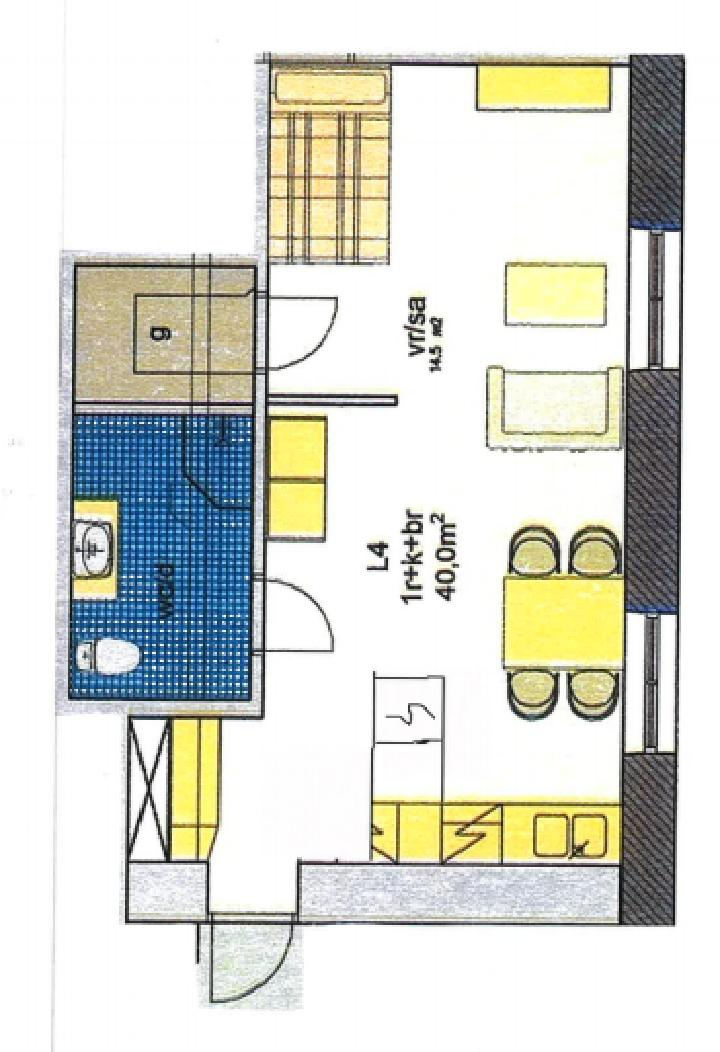door: (208, 918, 293, 1006), (254, 577, 338, 658), (259, 298, 338, 365)
window: (625, 229, 681, 369), (625, 617, 678, 750)
zone: (129, 65, 621, 921), (75, 418, 253, 696), (81, 260, 254, 397)
